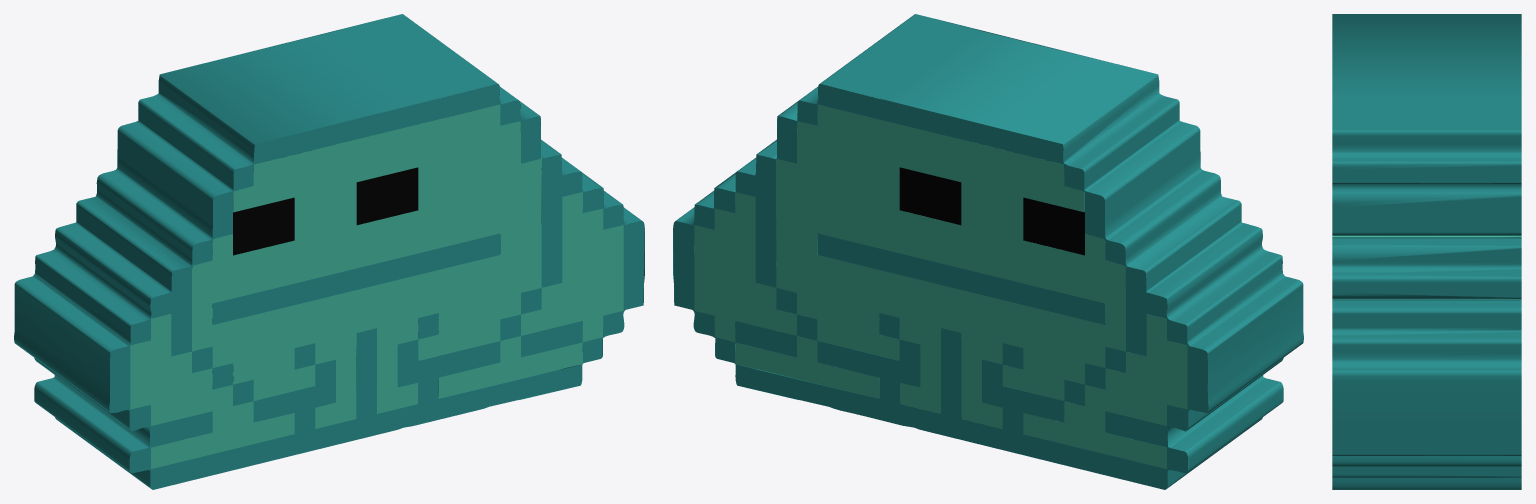
File: Toadz_160.glb
3 views of the same model, side by side, from view 1: azimuth 30°, elevation 25°; view 2: azimuth 150°, elevation 25°; view 3: azimuth 270°, elevation 25° (orthographic).
Parts seen in each view (by area): view 1: Curve; view 2: Curve; view 3: Curve.
Boxes of the visible parts, box(x1,y1,x2,y2) form: Curve: box(14, 14, 644, 489); Curve: box(673, 14, 1303, 489); Curve: box(1332, 14, 1521, 489).
Size of the model in its own units: 3.24 by 1.86 by 1.
